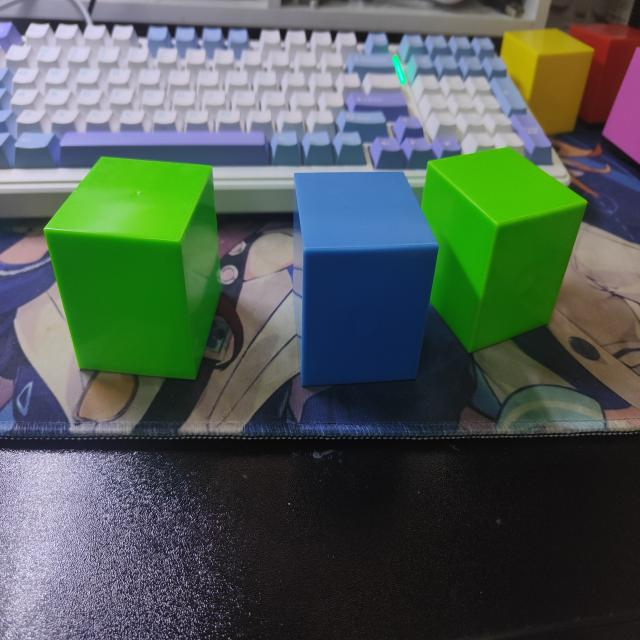blue: (293, 170, 438, 392)
green: (42, 157, 221, 383), (419, 149, 588, 355)
yellow: (500, 28, 594, 137)
